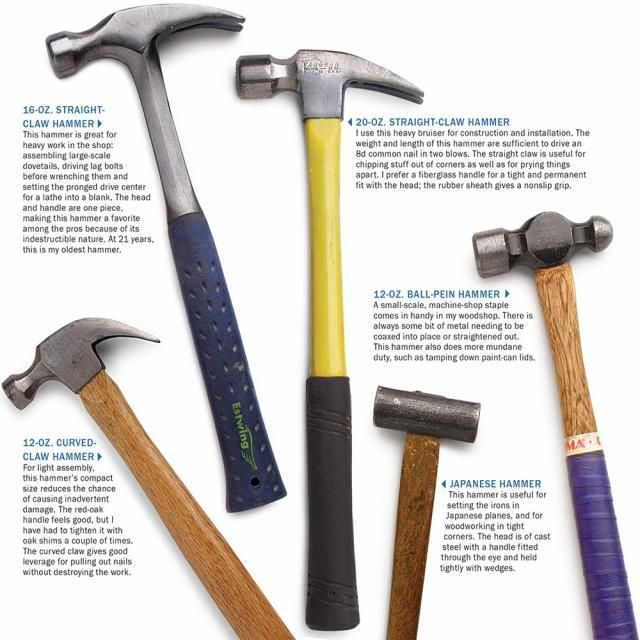hammer: (38, 0, 288, 515), (227, 35, 432, 640), (0, 306, 311, 640), (468, 204, 640, 640), (367, 383, 482, 640)
